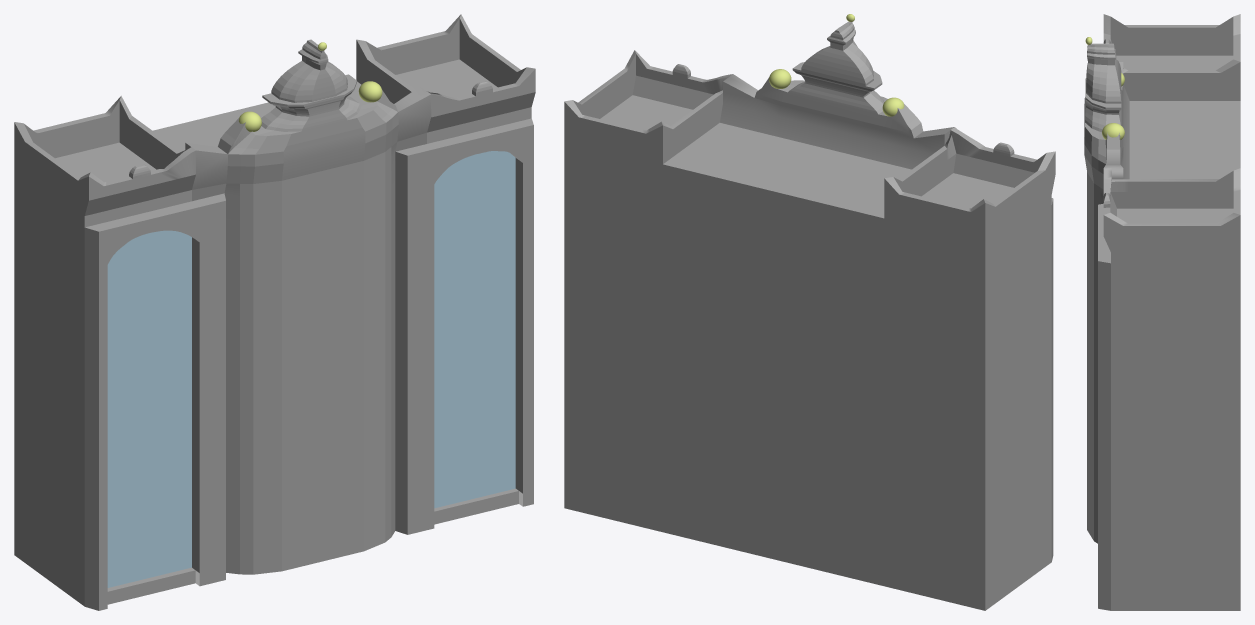
Rendered from Wardrobe.fbx.
3 renders of one model, left to right at view 1: azimuth 30°, elevation 25°; view 2: azimuth 150°, elevation 25°; view 3: azimuth 270°, elevation 25°, orthographic. The views are drawn at different scales.
Parts seen in each view (by area): view 1: Wardrobe:Wardrobe; view 2: Wardrobe:Wardrobe; view 3: Wardrobe:Wardrobe.
Part boxes in pixels (x1,y1,x2,y2): Wardrobe:Wardrobe: (14, 14, 535, 610); Wardrobe:Wardrobe: (564, 14, 1055, 610); Wardrobe:Wardrobe: (1084, 14, 1240, 610).
Bounding box in the file's own units: 204 × 225 × 67.2.
